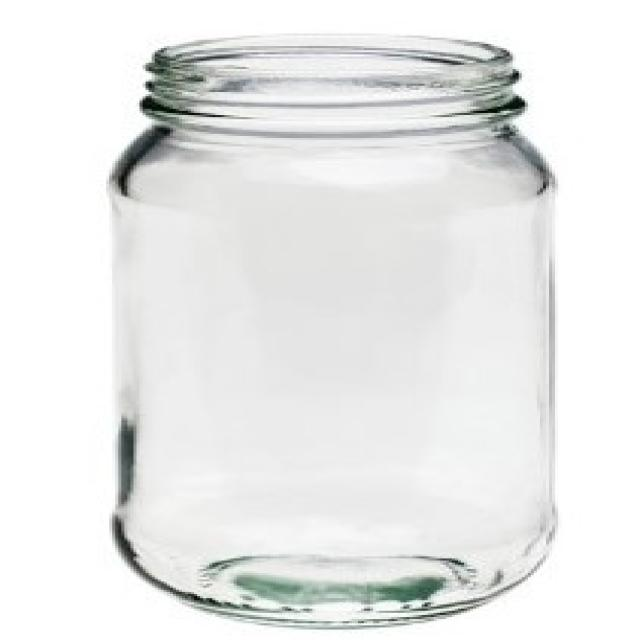electronic: (94, 31, 580, 632)
